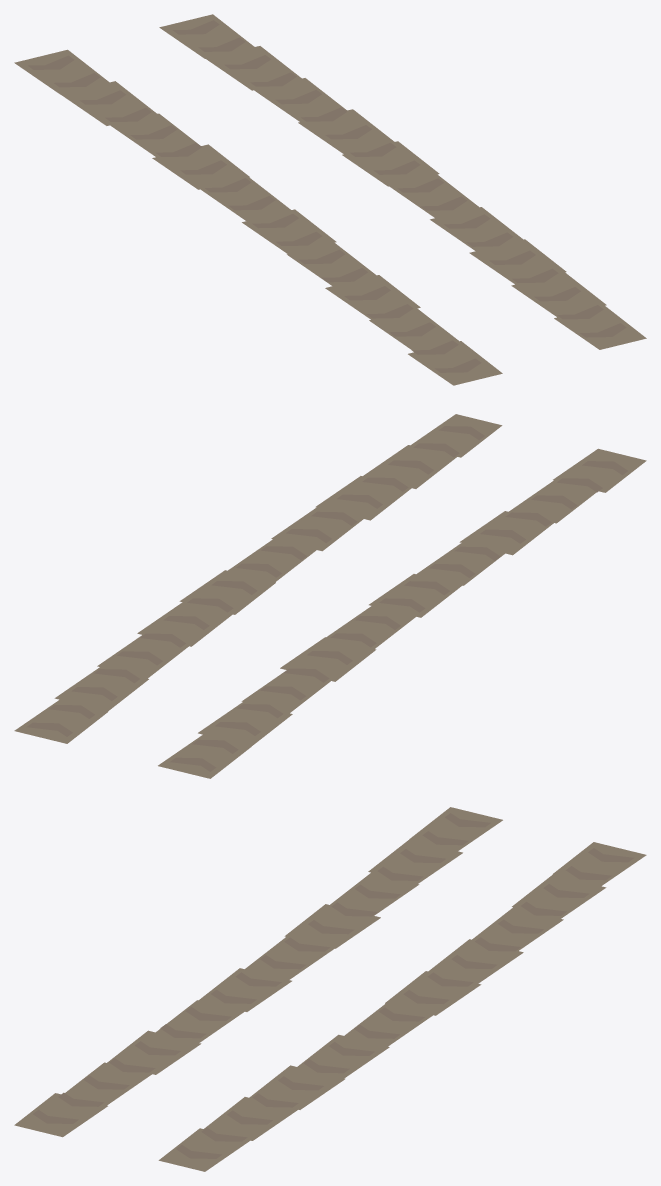
Rendered from tracks.glb.
The picture shows the model from 3 angles, top to bottom: view 1: azimuth 30°, elevation 25°; view 2: azimuth 150°, elevation 25°; view 3: azimuth 330°, elevation 25°; orthographic projection.
Size of the model in its own units: 2.77 by 0.006 by 10.
